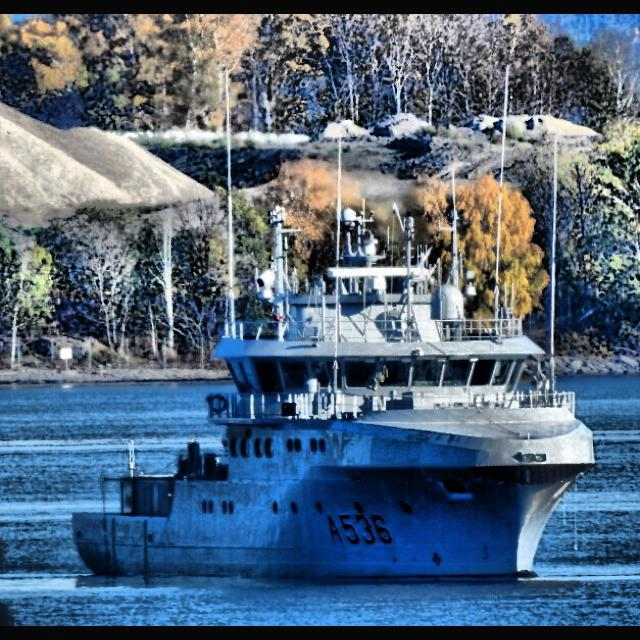patrol_vessel: (69, 200, 596, 586)
